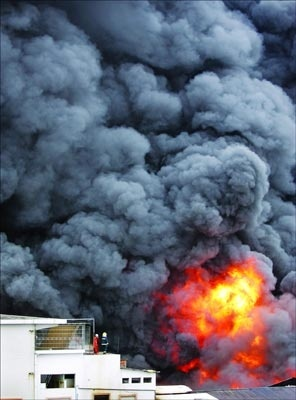fire: (167, 262, 270, 376)
